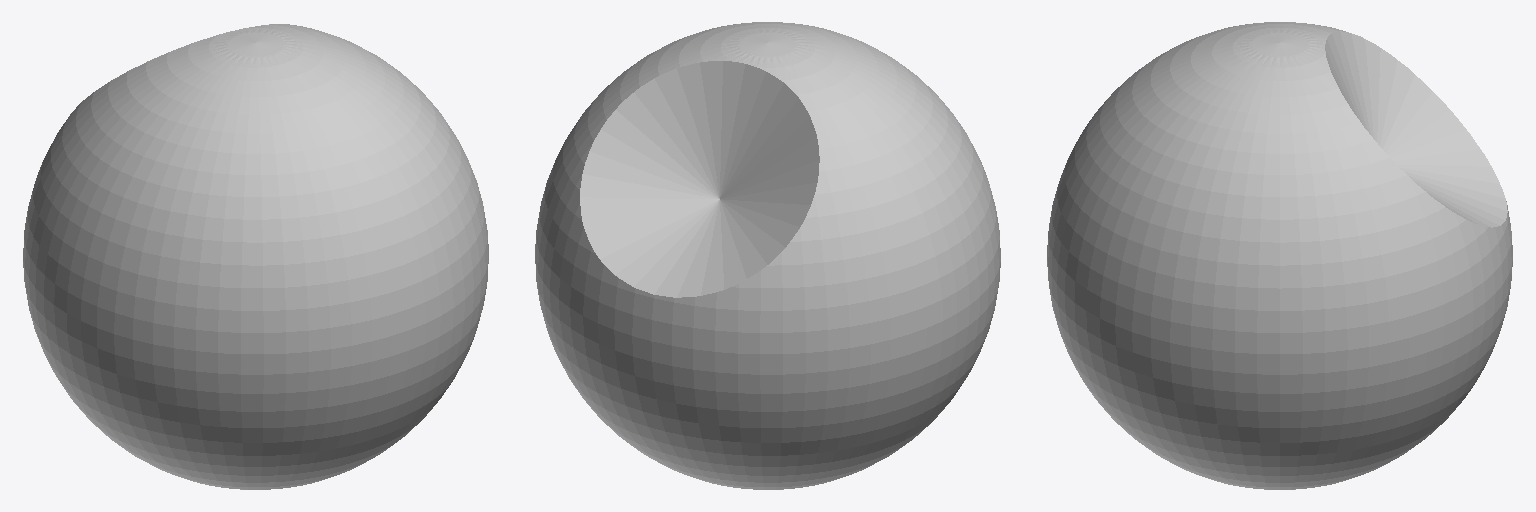
The model's file is deathstar.obj.
The picture shows the model from 3 angles: view 1: azimuth 30°, elevation 25°; view 2: azimuth 150°, elevation 25°; view 3: azimuth 270°, elevation 25°; orthographic projection.
Visible parts, largest first — view 1: Sphere; view 2: Sphere; view 3: Sphere.
Part boxes in pixels (left/top/right/bottom): Sphere: left=23, top=24, right=488, bottom=489; Sphere: left=535, top=22, right=1000, bottom=489; Sphere: left=1047, top=22, right=1512, bottom=489.
Size of the model in its own units: 1.97 by 2 by 1.97.